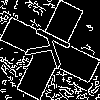K: (25, 25, 81, 75)
